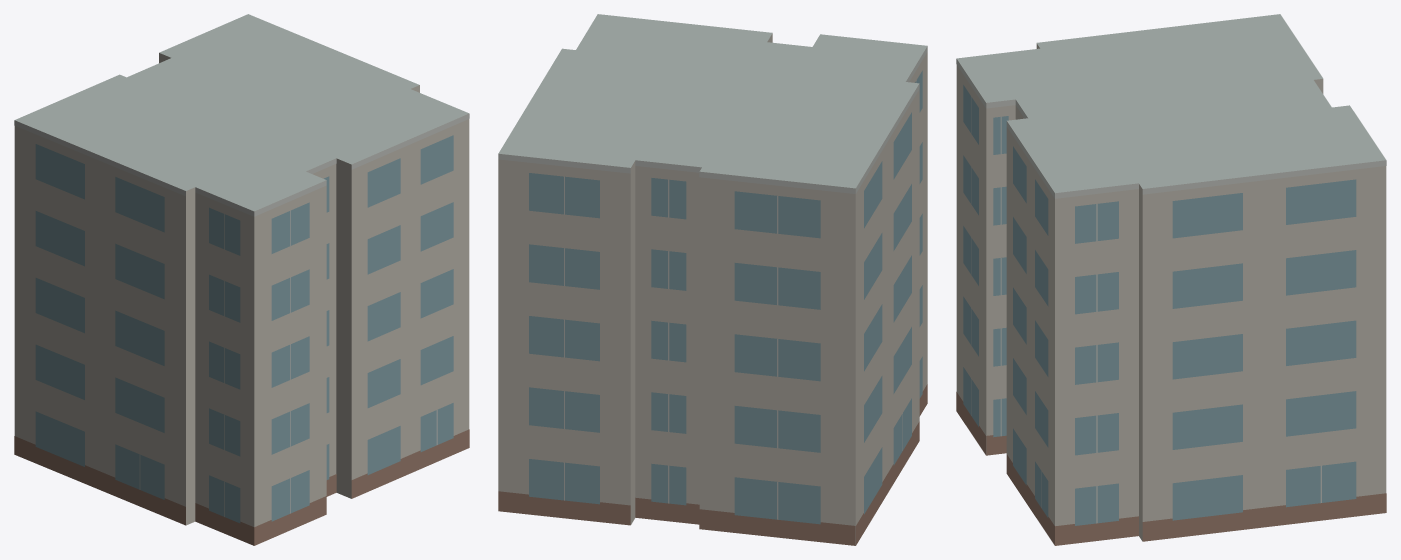
File: survey-upis-32919412.glb
3 views of the same model, side by side, from view 1: azimuth 30°, elevation 25°; view 2: azimuth 150°, elevation 25°; view 3: azimuth 270°, elevation 25° (orthographic). The views are drawn at different scales.
Visible parts, largest first — view 1: survey-upis-32919412.tmp; view 2: survey-upis-32919412.tmp; view 3: survey-upis-32919412.tmp.
Boxes of the visible parts, left/top/right/bottom form: survey-upis-32919412.tmp: left=14, top=14, right=469, bottom=545; survey-upis-32919412.tmp: left=498, top=14, right=927, bottom=545; survey-upis-32919412.tmp: left=956, top=14, right=1386, bottom=545.
Size of the model in its own units: 16.63 by 15.25 by 16.86.
